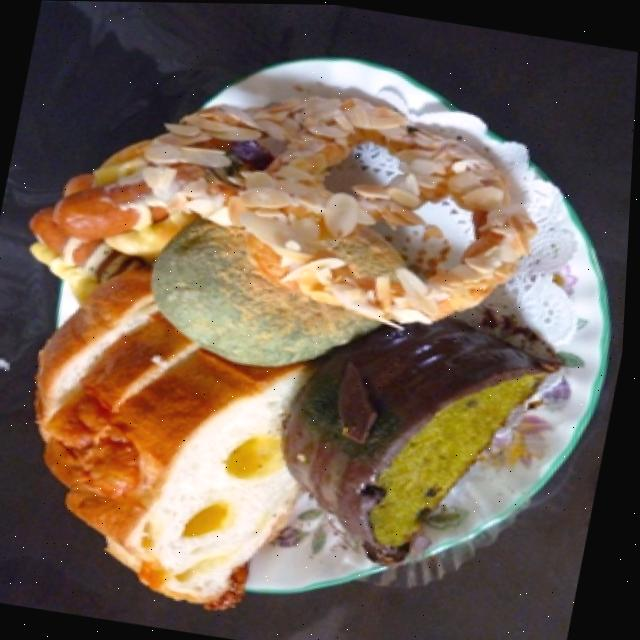三明治: (0, 33, 623, 640)
